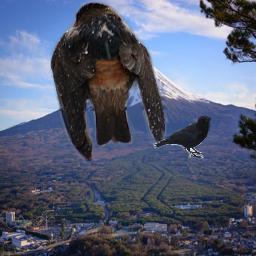Crow: (153, 116, 211, 159)
Swallow: (50, 2, 167, 163)
